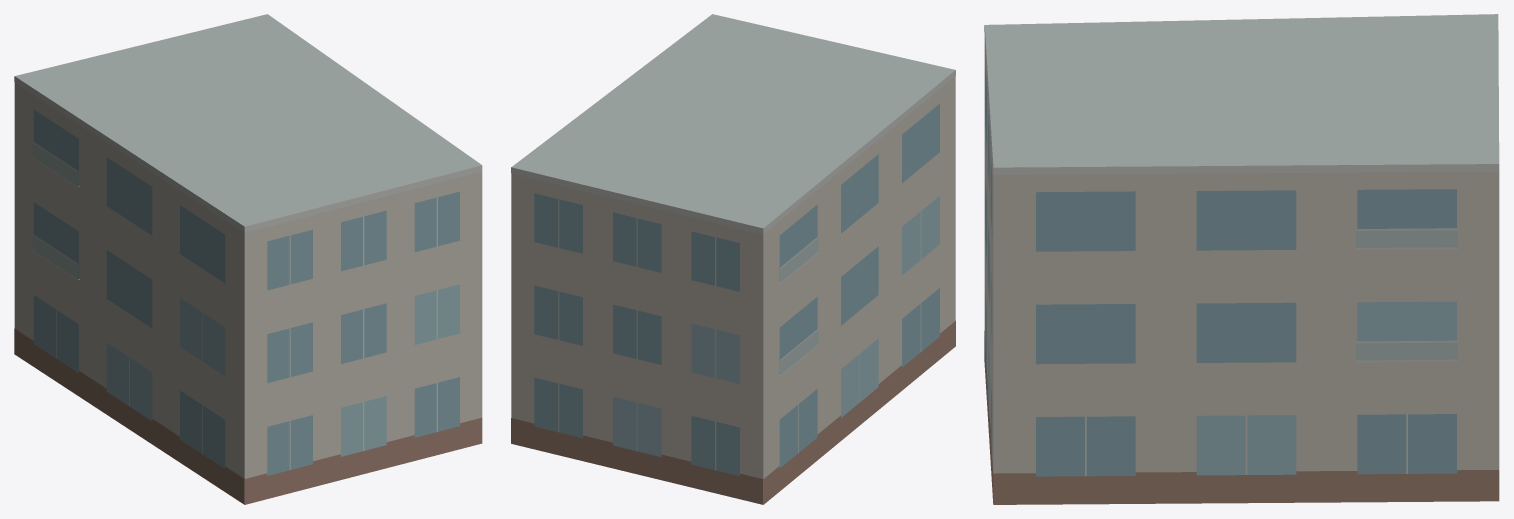
The model's file is survey-upis-33001460.glb.
The picture shows the model from 3 angles, left to right: view 1: azimuth 30°, elevation 25°; view 2: azimuth 150°, elevation 25°; view 3: azimuth 270°, elevation 25°; orthographic projection. The views are drawn at different scales.
Parts seen in each view (by area): view 1: survey-upis-33001460.tmp; view 2: survey-upis-33001460.tmp; view 3: survey-upis-33001460.tmp.
Boxes of the visible parts, x1,y1,x2,y2 form: survey-upis-33001460.tmp: [14, 14, 482, 504]; survey-upis-33001460.tmp: [511, 14, 955, 504]; survey-upis-33001460.tmp: [984, 14, 1499, 504].
Bounding box in the file's own units: 10.7 × 10.95 × 15.15.
